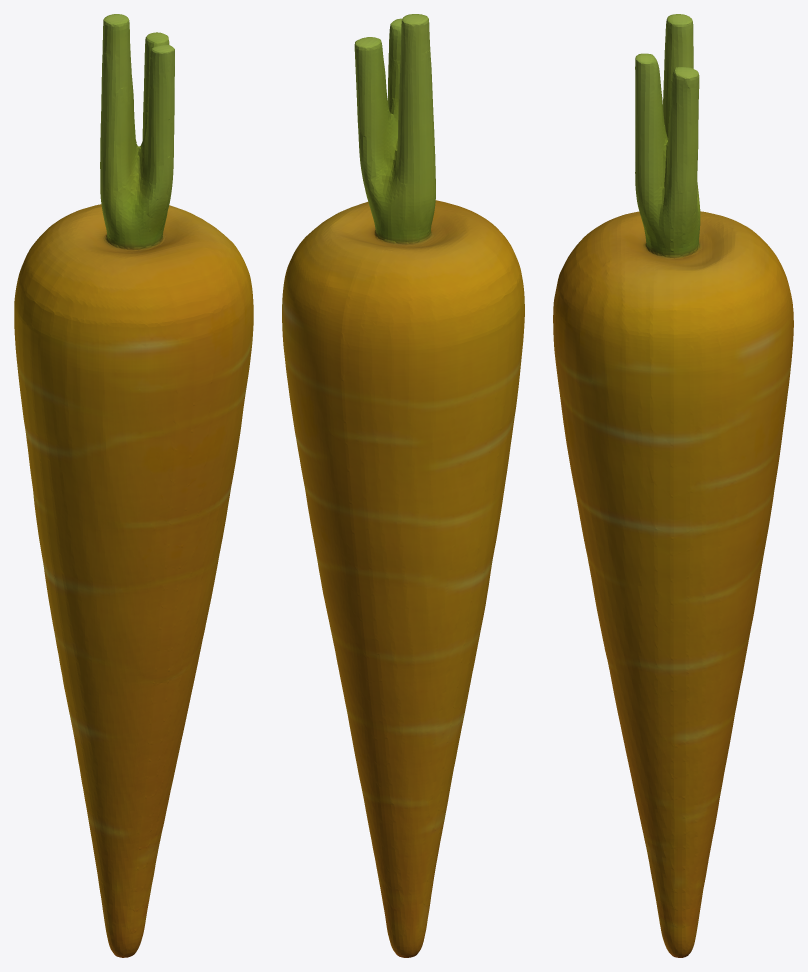
File: carrot_new.glb
3 renders of one model, left to right at view 1: azimuth 30°, elevation 25°; view 2: azimuth 150°, elevation 25°; view 3: azimuth 270°, elevation 25°, orthographic.
Visible parts, largest first — view 1: world; view 2: world; view 3: world.
Boxes of the visible parts, x1,y1,x2,y2 form: world: (14,14,253,957); world: (282,14,524,957); world: (553,14,793,957).
Bounding box in the file's own units: 0.2327 × 0.9995 × 0.2337.
